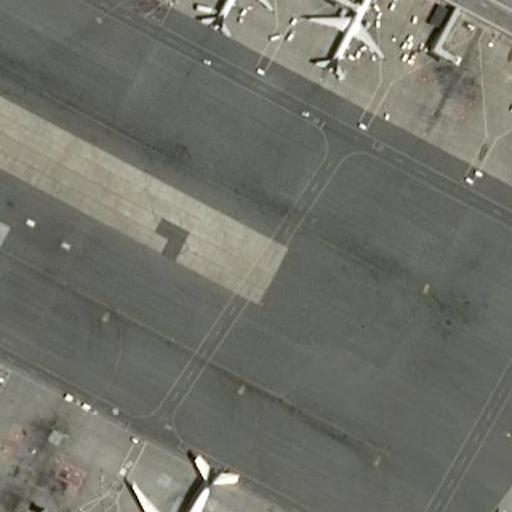Aircraft: (118, 441, 250, 512), (300, 0, 381, 76), (192, 0, 270, 26), (476, 509, 512, 512)
